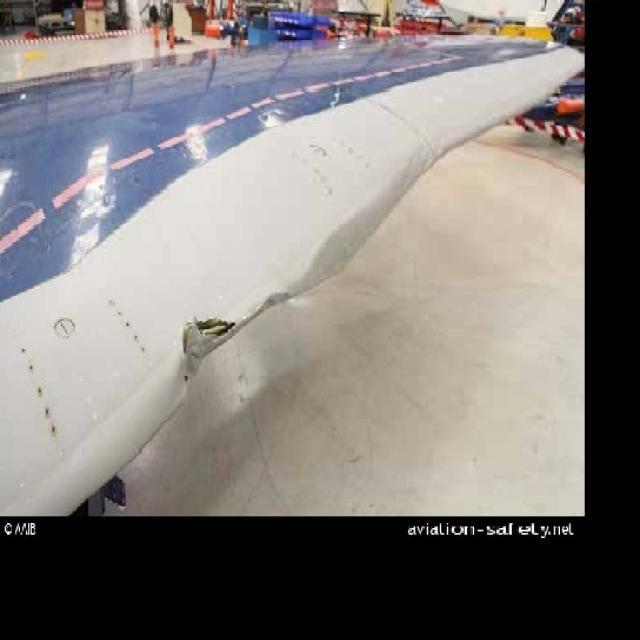crack: (177, 319, 238, 394)
dent: (292, 163, 422, 297)
